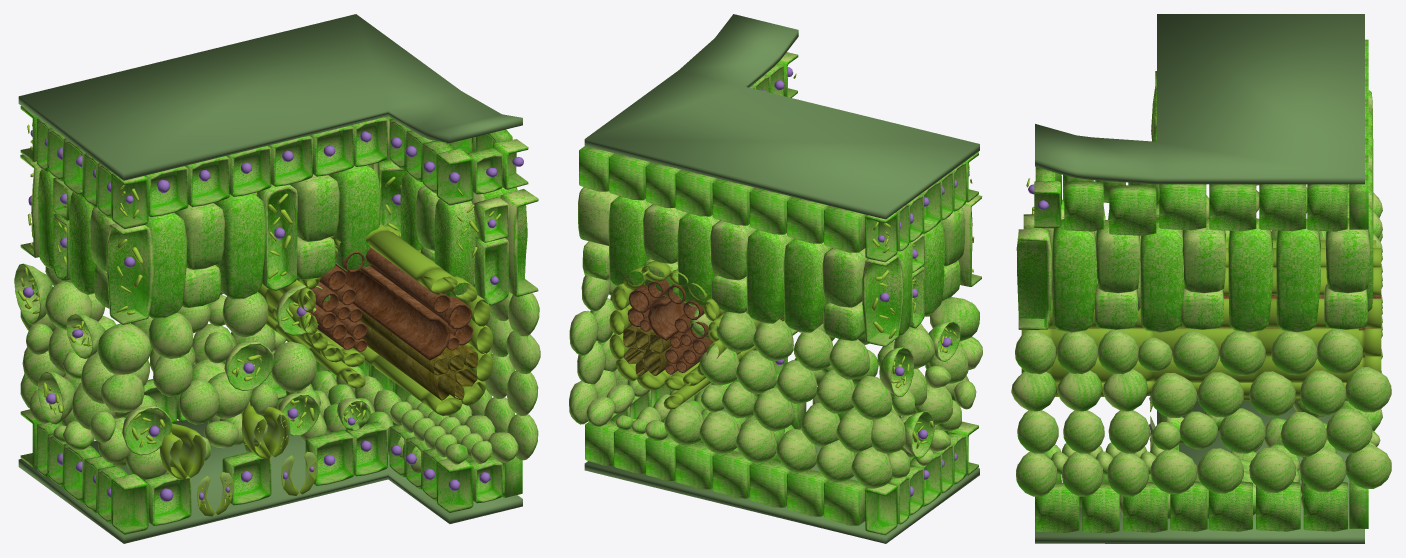
File: photosynthesis.mobile.glb
The picture shows the model from 3 angles, left to right: view 1: azimuth 30°, elevation 25°; view 2: azimuth 150°, elevation 25°; view 3: azimuth 270°, elevation 25°; orthographic projection. The views are drawn at different scales.
Parts seen in each view (by area): view 1: xibao_1_mesh_2_0 (×2); view 2: xibao_1_mesh_2_0 (×2); view 3: xibao_1_mesh_2_0 (×2).
Part boxes in pixels (left/top/right/bottom): xibao_1_mesh_2_0 (×2): left=14, top=14, right=540, bottom=543; xibao_1_mesh_2_0 (×2): left=569, top=14, right=982, bottom=543; xibao_1_mesh_2_0 (×2): left=1011, top=14, right=1391, bottom=543.
Size of the model in its own units: 4526017 by 4548784 by 4076789.
1 material, 1 textured.
